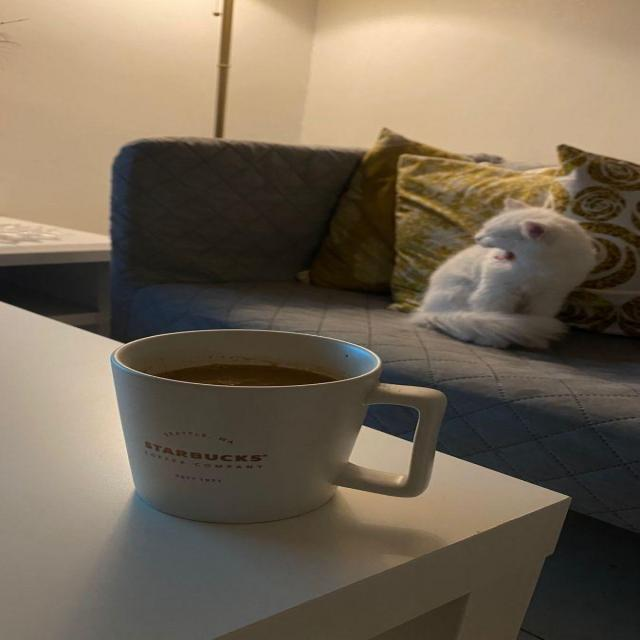cup-handle: (109, 327, 451, 525)
